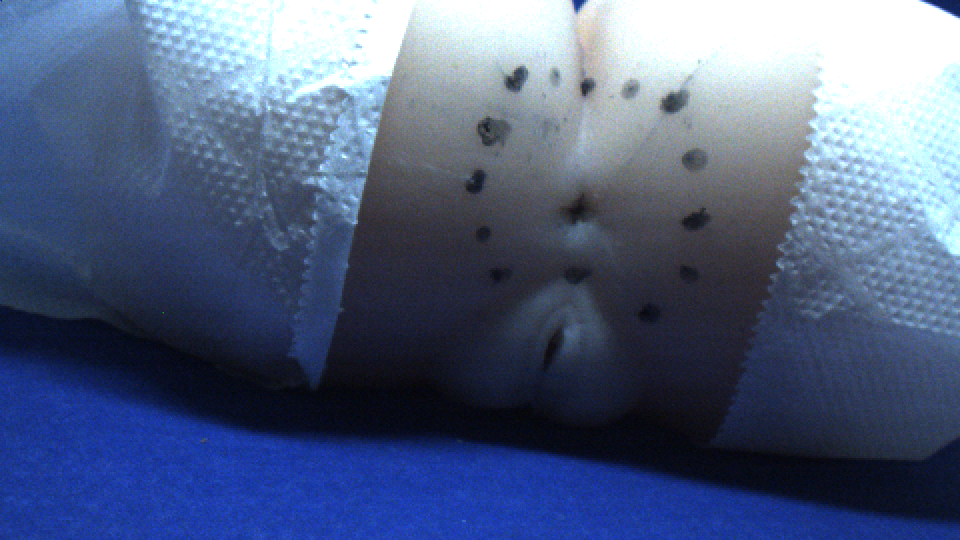asarp_marker: (476, 111, 515, 148), (684, 204, 725, 236), (658, 84, 693, 118), (676, 142, 714, 173), (557, 261, 599, 289), (499, 61, 534, 92), (458, 167, 493, 197), (573, 71, 600, 104), (475, 219, 499, 246), (618, 78, 644, 102), (638, 300, 660, 323), (491, 263, 515, 284), (682, 267, 705, 287)
